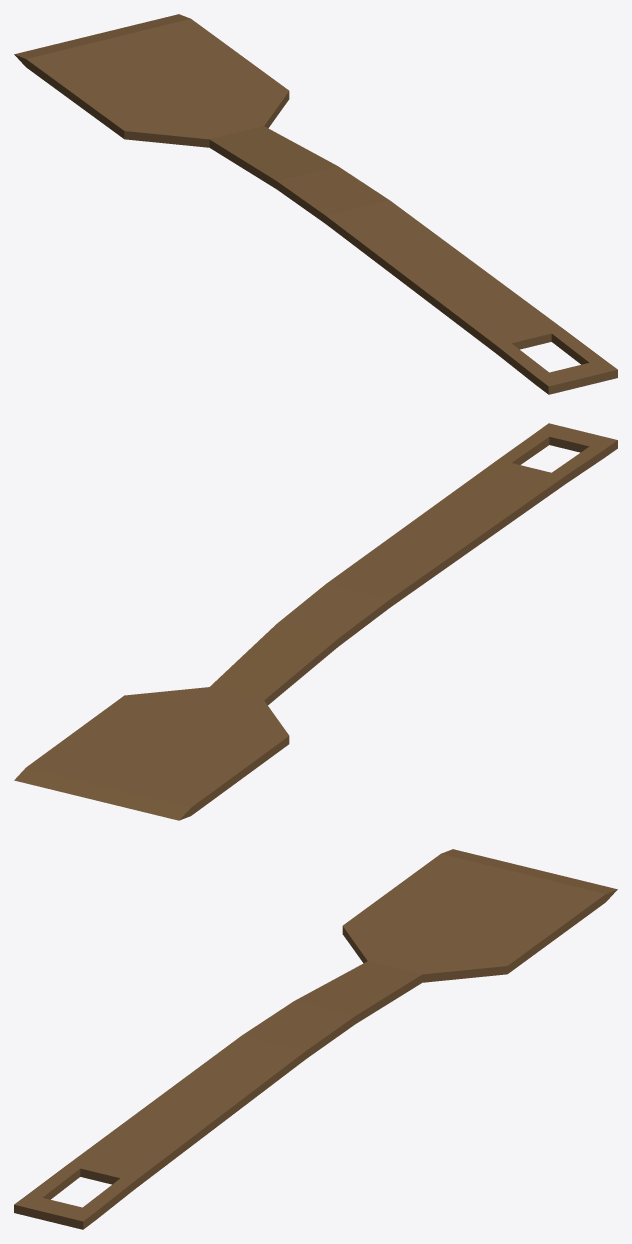
Rendered from Spoon_05.fbx.
3 views of the same model, one above another, from view 1: azimuth 30°, elevation 25°; view 2: azimuth 150°, elevation 25°; view 3: azimuth 330°, elevation 25° (orthographic).
Visible parts, largest first — view 1: Spoon_05; view 2: Spoon_05; view 3: Spoon_05.
Part boxes in pixels (x1,y1,x2,y2): Spoon_05: [14, 14, 617, 394]; Spoon_05: [14, 423, 617, 820]; Spoon_05: [14, 849, 617, 1229].
Size of the model in its own units: 5.46 by 0.6857 by 27.92.
